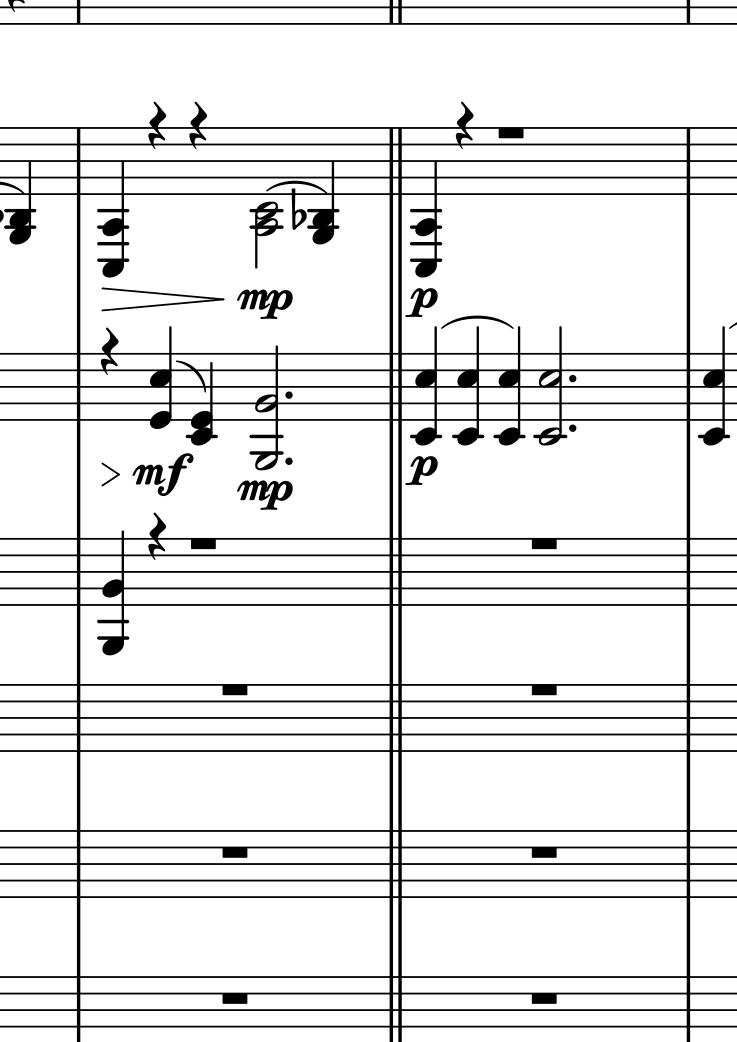2_-2_5: (532, 326, 567, 446)
2_-4_-2: (251, 126, 284, 269)
2_-5_2: (250, 345, 284, 470)
4_-2_0: (187, 353, 219, 446)
4_-2_5: (410, 326, 445, 446), (450, 325, 485, 445), (492, 326, 527, 446), (697, 326, 732, 446)
4_-5_-3: (310, 126, 339, 246)
4_-5_2: (97, 529, 131, 656)
4_-5_3: (7, 127, 37, 245)
4_-9_-4: (99, 126, 130, 278), (412, 126, 443, 278)
4_0_5: (149, 326, 175, 430)
Diminuendo_hairpin: (100, 287, 225, 311), (97, 460, 121, 486)
Double_barline: (382, 684, 413, 749), (381, 830, 410, 898), (382, 354, 410, 420), (383, 537, 410, 605), (385, 127, 409, 193)
Flat: (289, 186, 308, 230)
Rests1: (216, 841, 260, 861), (526, 841, 564, 864), (526, 676, 565, 697), (218, 678, 254, 699), (217, 987, 253, 1008), (525, 534, 563, 553), (526, 988, 563, 1007), (495, 122, 529, 141), (187, 534, 221, 553)
Rests4: (451, 100, 478, 150), (187, 101, 211, 150), (145, 99, 168, 149), (147, 511, 169, 561), (99, 328, 121, 376)
Single_barline: (70, 538, 93, 606), (680, 352, 700, 423), (70, 683, 90, 752), (678, 830, 698, 898), (678, 683, 697, 752), (70, 127, 89, 195), (71, 352, 90, 420), (70, 830, 89, 898), (680, 538, 697, 605)
Slur: (440, 315, 516, 330), (176, 358, 208, 393), (268, 180, 326, 193)
dot: (567, 421, 580, 435), (281, 388, 296, 399), (567, 372, 578, 385), (283, 455, 295, 466)
mf: (132, 450, 192, 499)
mp: (237, 285, 296, 324), (236, 476, 293, 511)
p: (404, 282, 440, 320), (405, 449, 439, 487)
